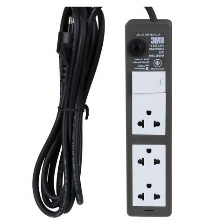three_eye_plug: (124, 17, 176, 218)
